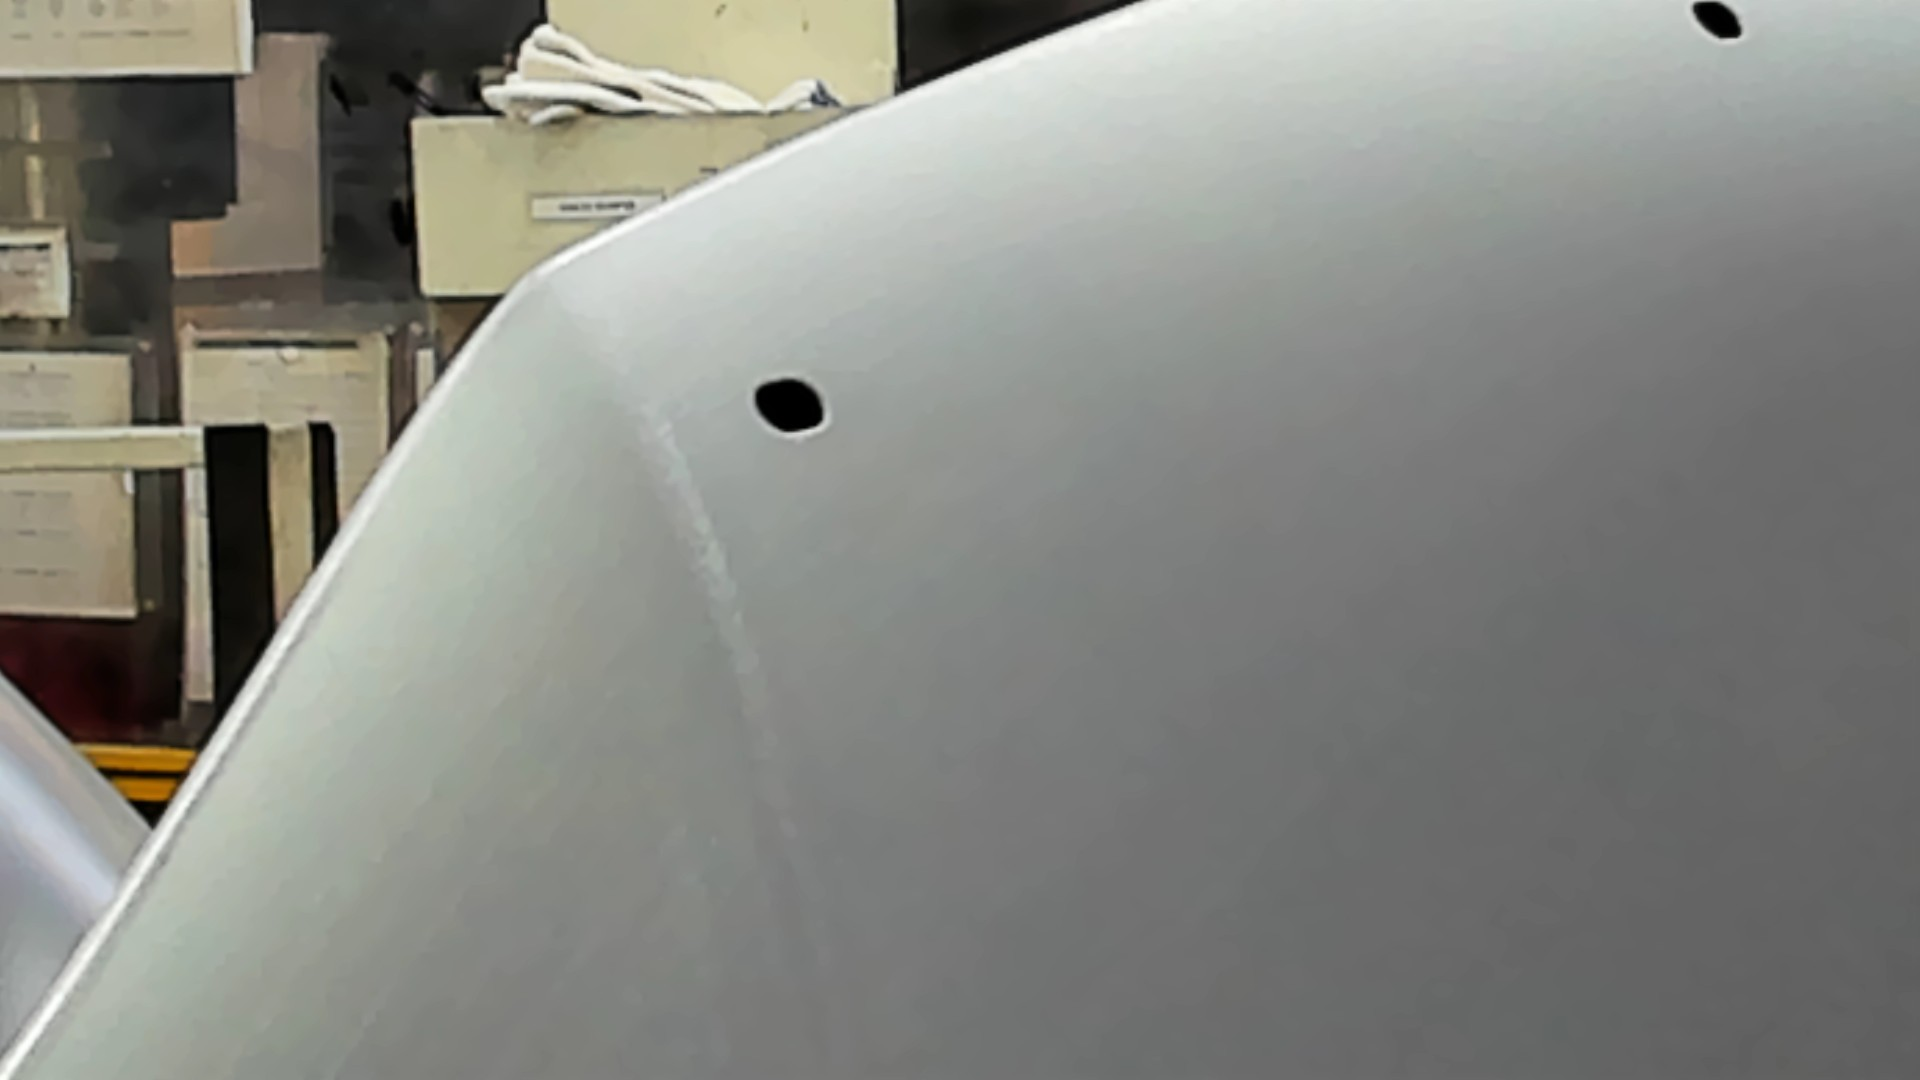amorfo: (745, 375, 833, 440), (1688, 1, 1750, 45)
